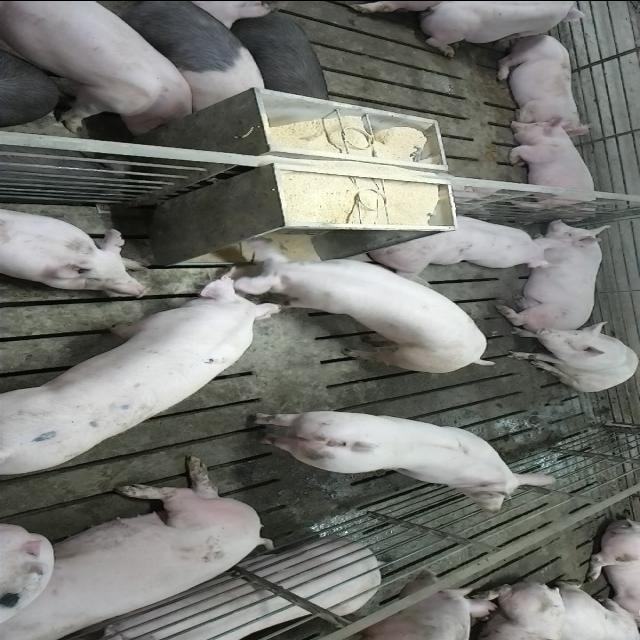Lateral_lying: (4, 452, 278, 636), (94, 537, 381, 640)
Sitting: (504, 321, 637, 391)
Standing: (4, 263, 288, 480), (218, 239, 498, 377), (242, 410, 558, 514), (0, 2, 199, 136), (90, 1, 272, 113), (228, 11, 334, 104)
Sternal_lying: (0, 202, 152, 292), (504, 220, 612, 328), (366, 210, 558, 270), (501, 116, 603, 214), (416, 2, 600, 56), (491, 31, 589, 130)
